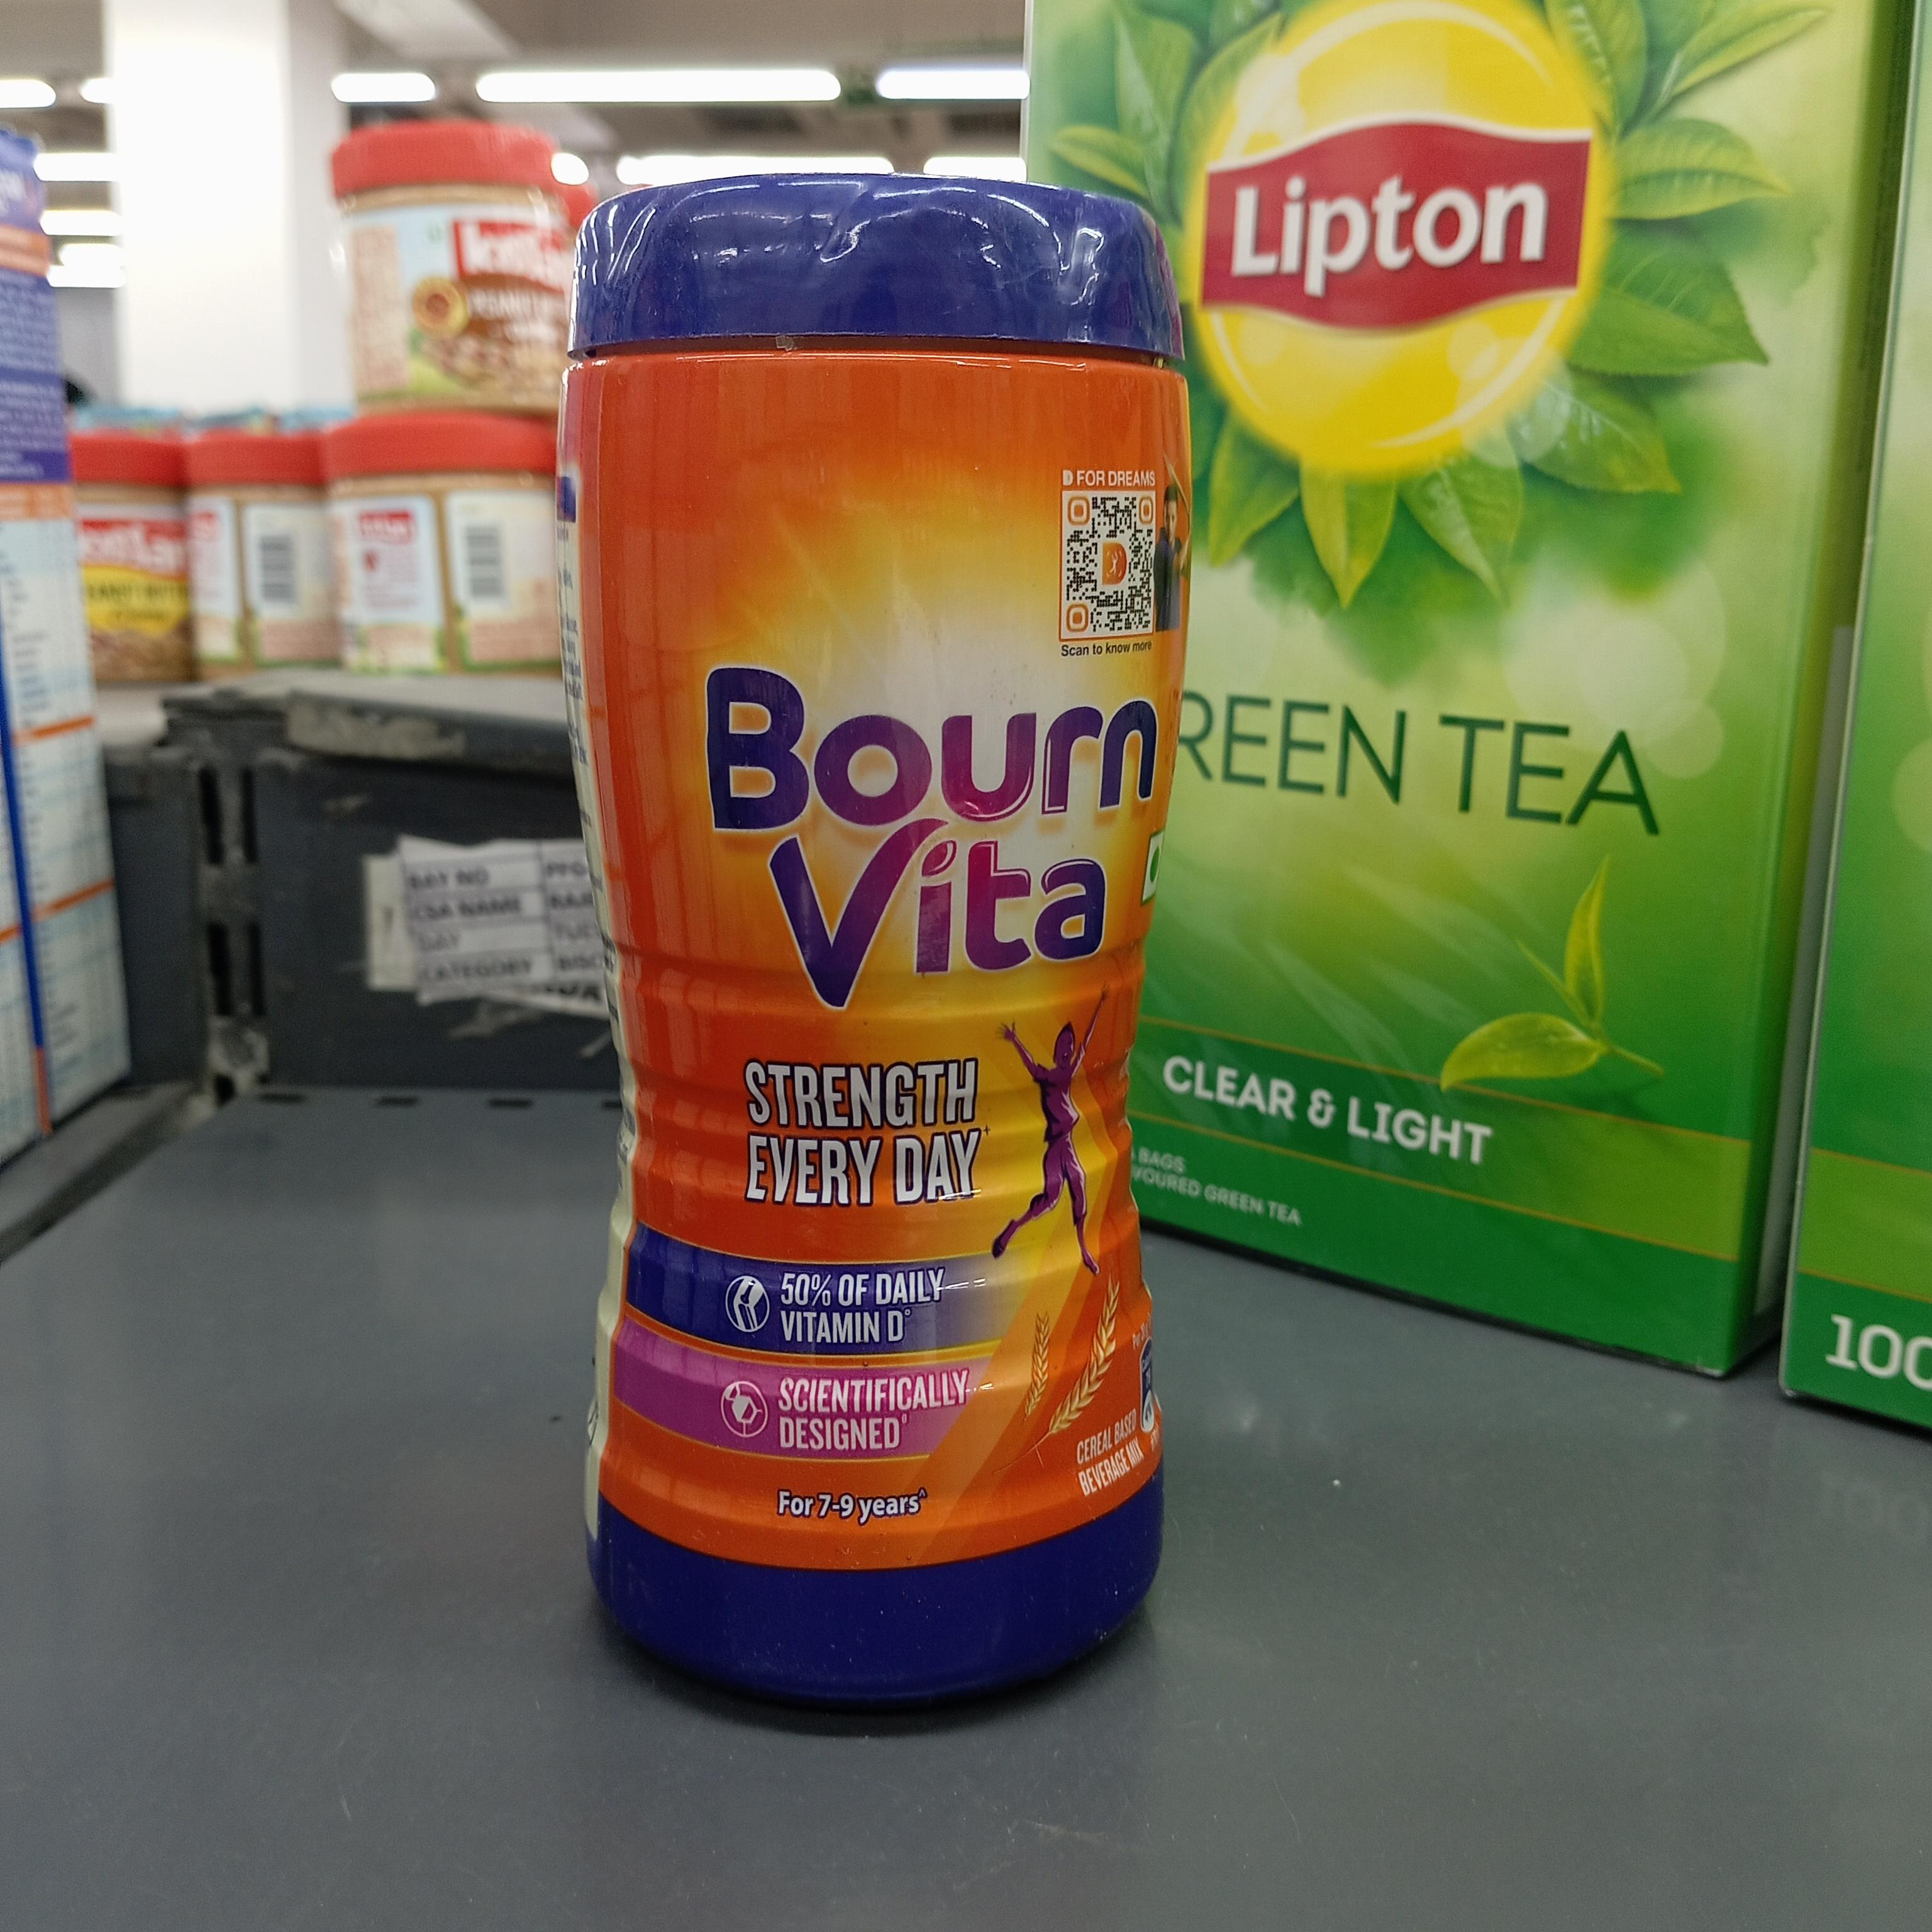BOURN_VITA_200_G_JAR: (559, 157, 1196, 1741)
